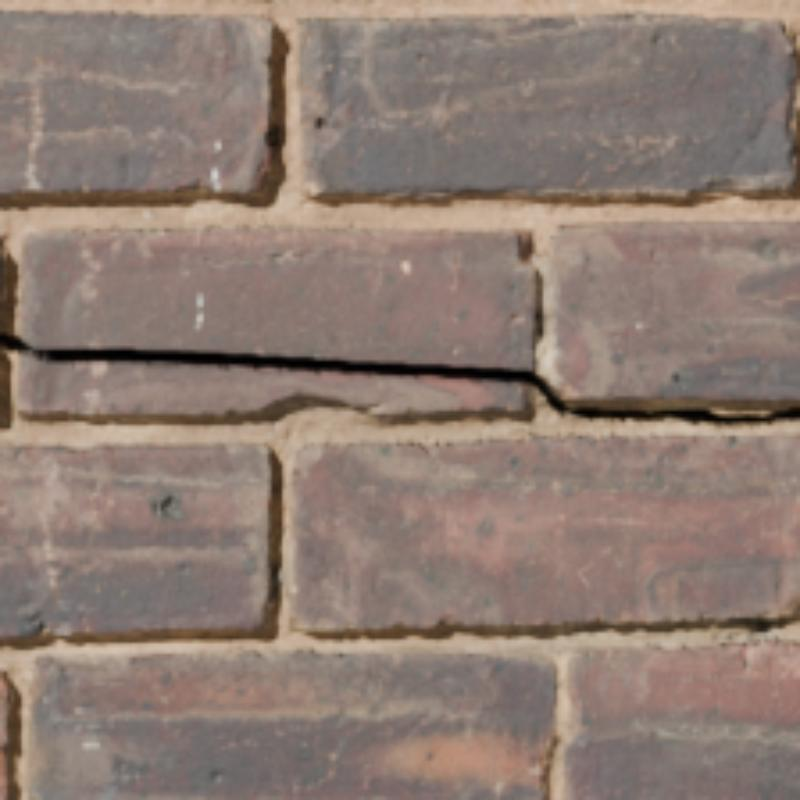crack: (0, 332, 796, 425)
